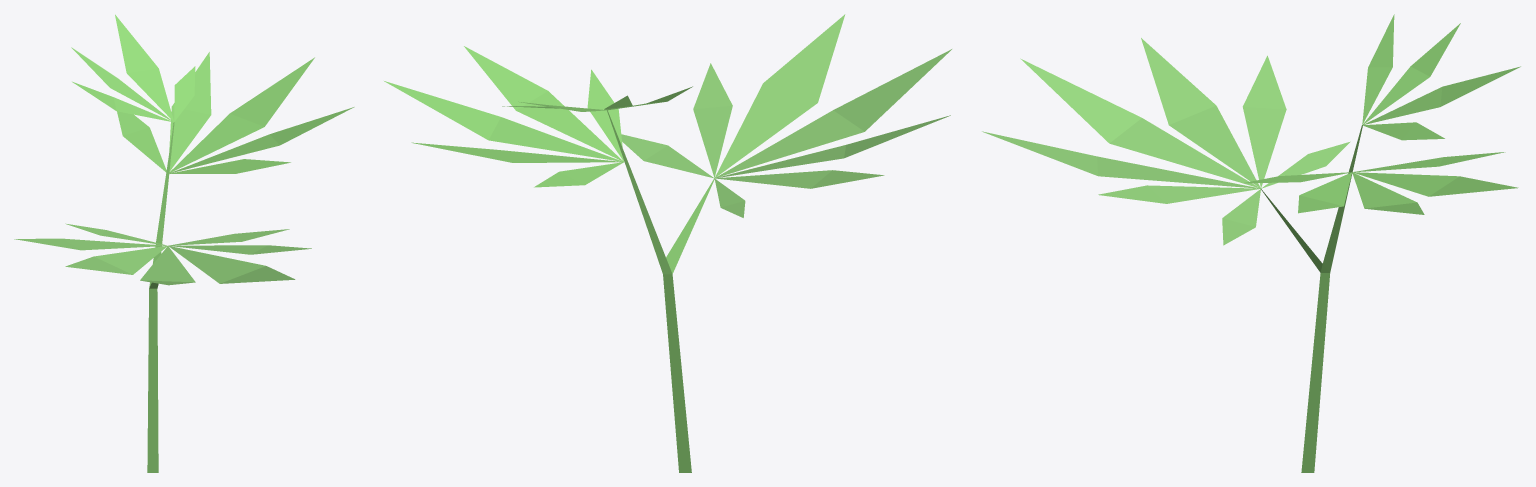
The model's file is Plant_i_TwoS_01.fbx.
3 renders of one model, left to right at view 1: azimuth 30°, elevation 25°; view 2: azimuth 150°, elevation 25°; view 3: azimuth 270°, elevation 25°, orthographic. The views are drawn at different scales.
Parts seen in each view (by area): view 1: Plant_i_TwoS_01; view 2: Plant_i_TwoS_01; view 3: Plant_i_TwoS_01.
Part boxes in pixels (x1,y1,x2,y2): Plant_i_TwoS_01: [14, 14, 354, 472]; Plant_i_TwoS_01: [384, 14, 951, 472]; Plant_i_TwoS_01: [982, 14, 1520, 472].
Bounding box in the file's own units: 48.01 × 46.73 × 52.08.
